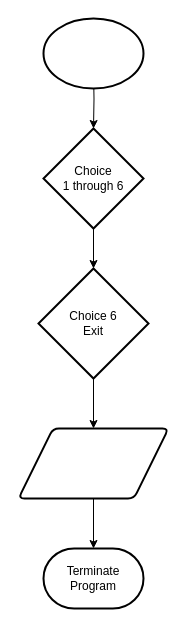
Some shapes in this 186 by 626 pixel diagram are drawn without their labels. Each missing label, with the centre of its shape:
Controller.Run(): pixel 93 53
Set value of keepRunning to false: pixel 93 463
